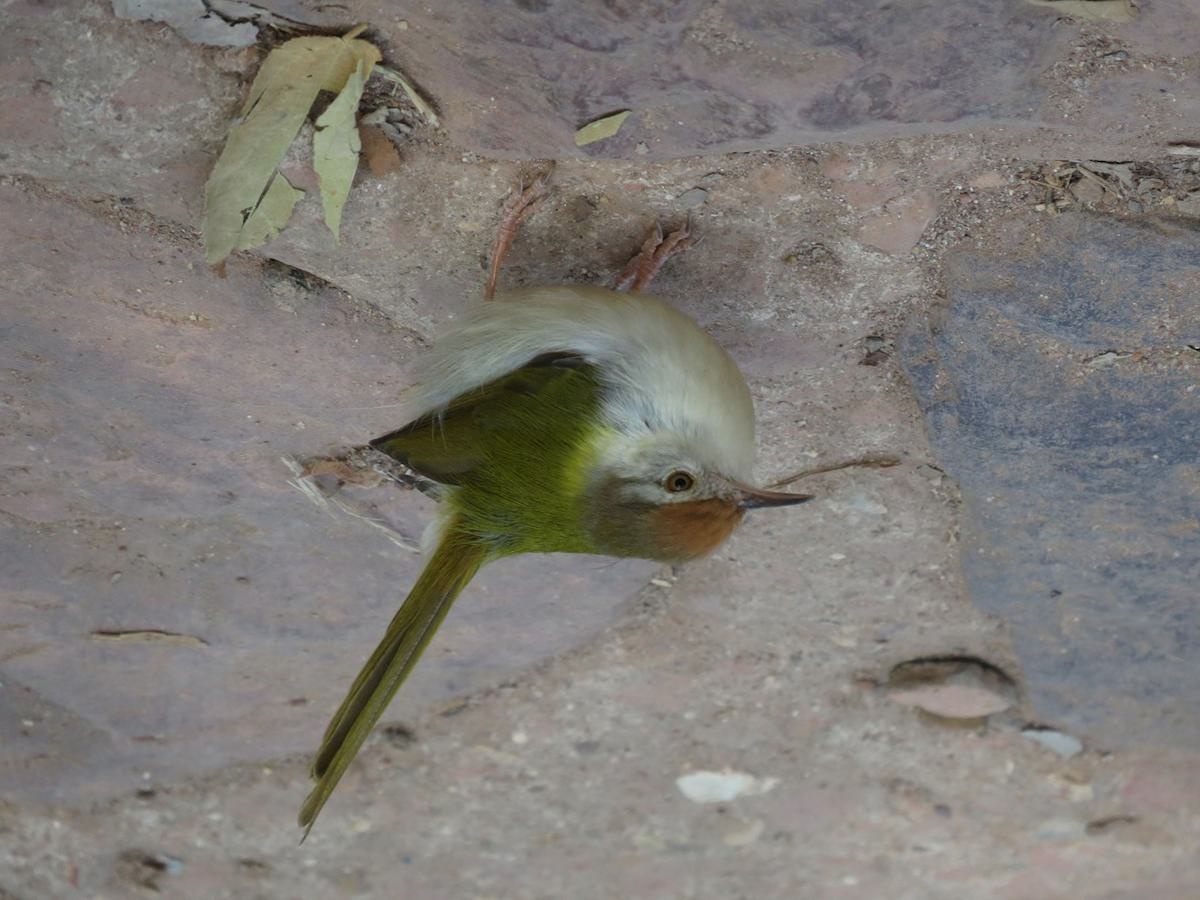tailorbird: (284, 193, 803, 864)
